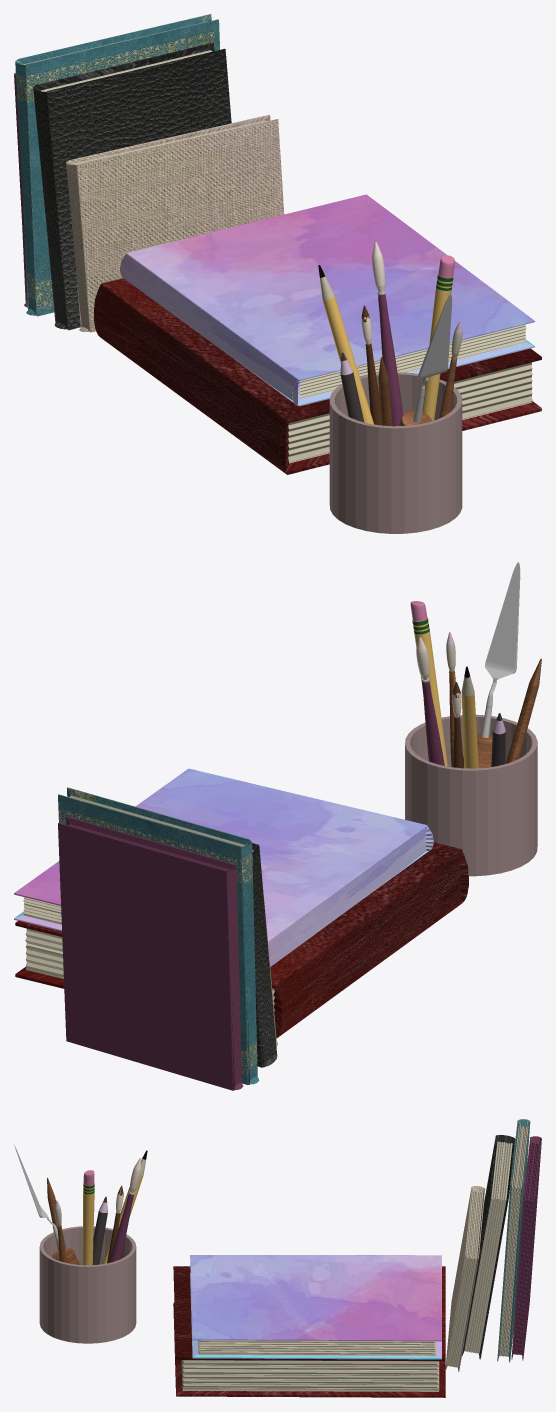
File: shelfSupplies.03686da7.glb
3 views of the same model, one above another, from view 1: azimuth 30°, elevation 25°; view 2: azimuth 150°, elevation 25°; view 3: azimuth 270°, elevation 25° (orthographic). The views are drawn at different scales.
Parts seen in each view (by area): view 1: ShelfSupplies; view 2: ShelfSupplies; view 3: ShelfSupplies.
Boxes of the visible parts, x1=… form: ShelfSupplies: x1=14, y1=14, x2=541, y2=533; ShelfSupplies: x1=14, y1=562, x2=541, y2=1090; ShelfSupplies: x1=14, y1=1119, x2=541, y2=1397.
Size of the model in its own units: 0.4795 by 0.394 by 1.03.
19 materials, 7 textured.
